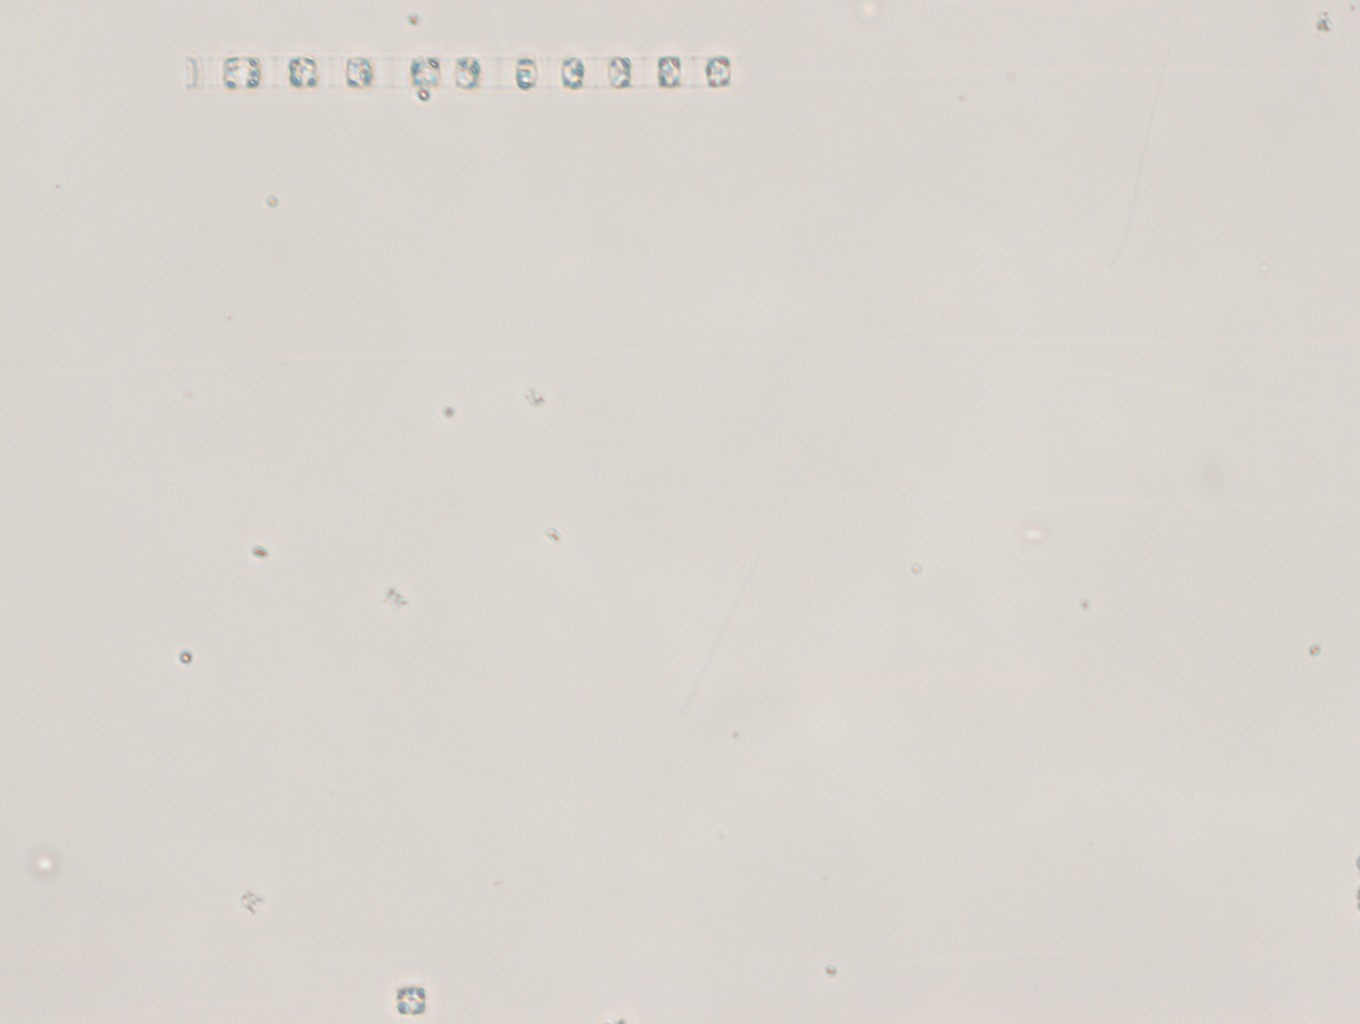skeletonema: (151, 38, 751, 110)
